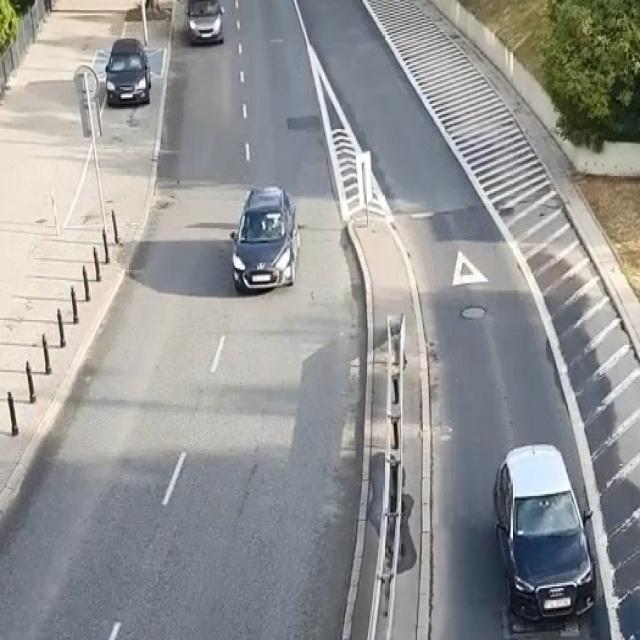car: (495, 445, 595, 621), (231, 186, 299, 292), (106, 39, 150, 104), (188, 0, 224, 43)
